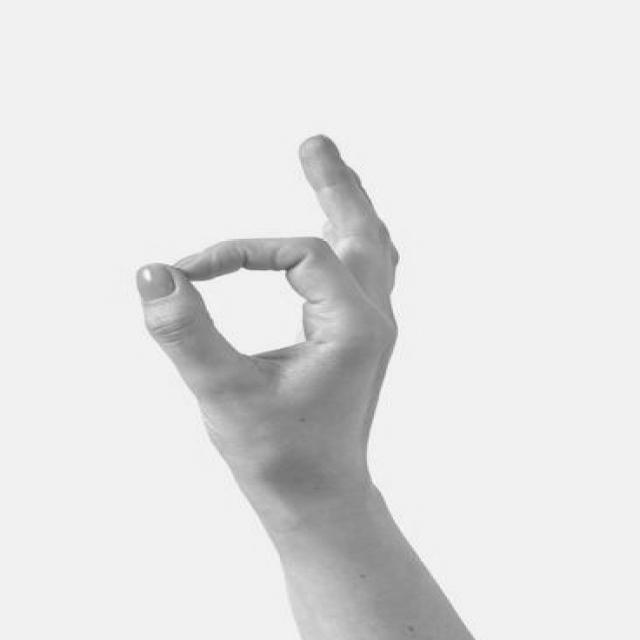perfect: (115, 125, 420, 492)
